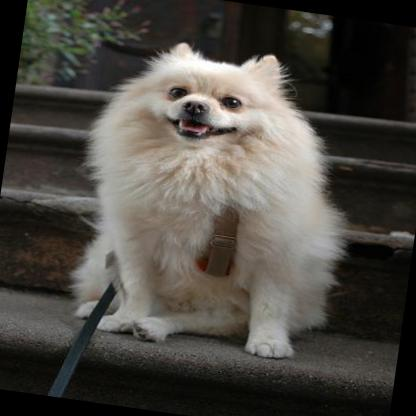Pomeranian: (58, 28, 366, 363)
